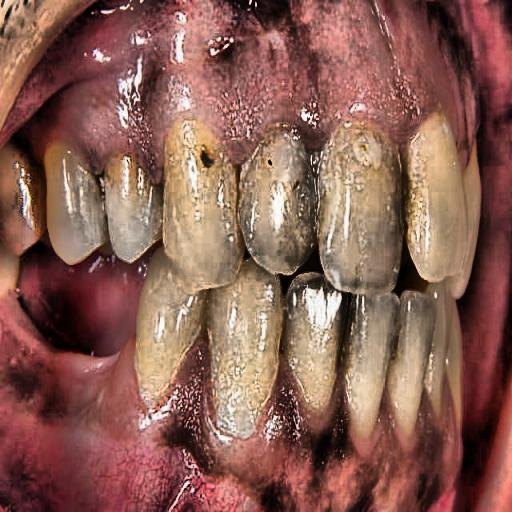Caries: (180, 130, 258, 194)
